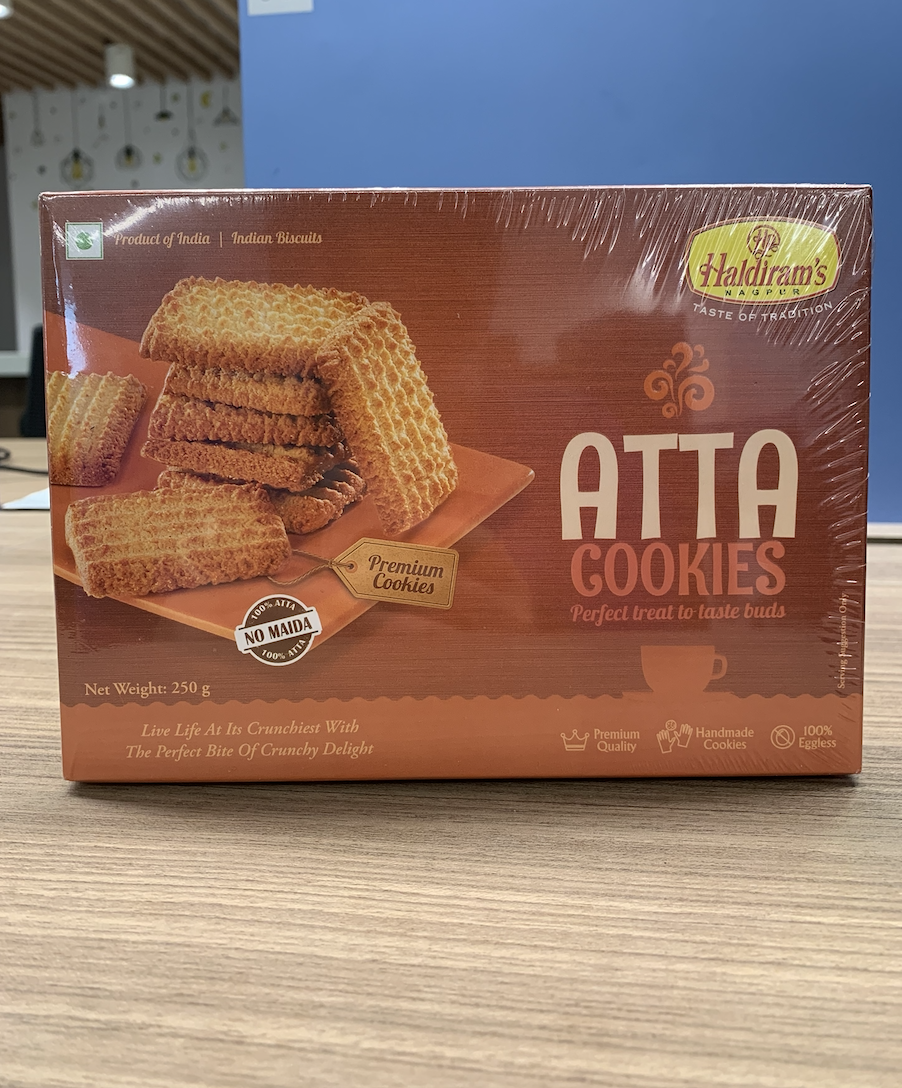cookies_150g: (48, 197, 868, 770)
